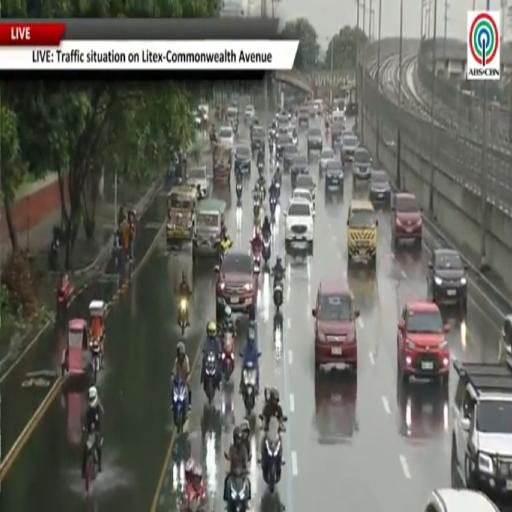car: (451, 360, 511, 503), (397, 301, 450, 385), (312, 280, 359, 370), (397, 380, 449, 439), (315, 372, 357, 443), (216, 251, 257, 313), (427, 248, 467, 311), (347, 200, 378, 269), (391, 192, 422, 248), (424, 489, 499, 511), (285, 200, 314, 255), (294, 174, 315, 214), (369, 170, 390, 206), (187, 166, 209, 198), (325, 158, 344, 193), (353, 147, 372, 181), (500, 314, 511, 367), (292, 188, 314, 212), (341, 134, 358, 165), (276, 131, 294, 159), (307, 127, 323, 157), (235, 144, 251, 172), (283, 143, 298, 172), (319, 148, 335, 175), (251, 126, 266, 154), (331, 121, 345, 147), (219, 126, 234, 149), (291, 154, 308, 174), (227, 106, 239, 133), (288, 124, 298, 147), (192, 109, 203, 129), (298, 106, 309, 125), (244, 105, 255, 123), (332, 110, 345, 125), (346, 102, 358, 117), (277, 115, 289, 130), (313, 99, 323, 116)
jeepney: (194, 199, 226, 257), (167, 186, 197, 245)
motorcycle: (260, 417, 284, 493), (227, 471, 250, 511), (84, 432, 98, 493), (173, 380, 188, 434), (243, 362, 257, 416), (183, 479, 206, 511), (204, 352, 217, 405), (56, 282, 73, 316), (222, 332, 234, 380), (90, 340, 102, 385), (272, 278, 284, 312), (178, 298, 188, 334), (262, 236, 270, 266), (269, 194, 277, 218), (258, 179, 266, 200), (254, 253, 261, 274), (254, 200, 261, 218), (275, 181, 281, 200), (236, 182, 242, 201), (291, 170, 297, 189), (258, 160, 264, 175), (292, 136, 298, 147)
truck: (213, 143, 232, 182)
